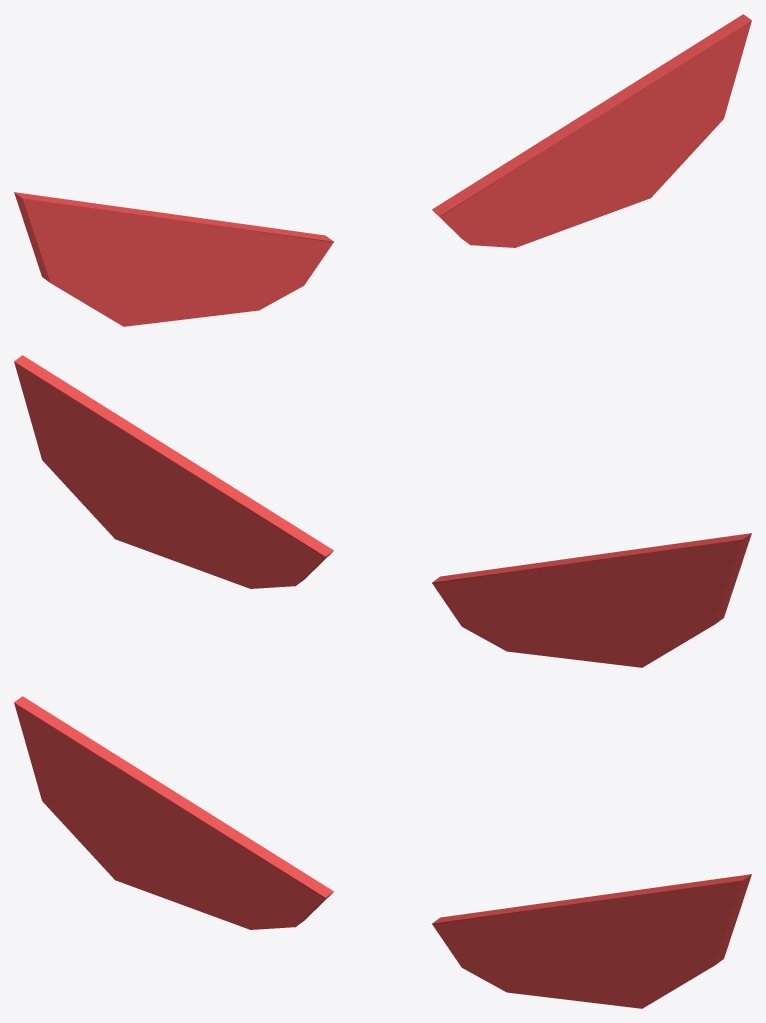
The model's file is eyes_red.FBX.
3 renders of one model, top to bottom at view 1: azimuth 30°, elevation 25°; view 2: azimuth 150°, elevation 25°; view 3: azimuth 330°, elevation 25°, orthographic.
Parts seen in each view (by area): view 1: eyes_red; view 2: eyes_red; view 3: eyes_red.
Boxes of the visible parts, <box> form: eyes_red: <box>14,14,751,326</box>; eyes_red: <box>14,355,751,667</box>; eyes_red: <box>14,696,751,1008</box>.
Size of the model in its own units: 38.7 by 8.61 by 0.7914.
Materials: 1 (1 with a texture image).
